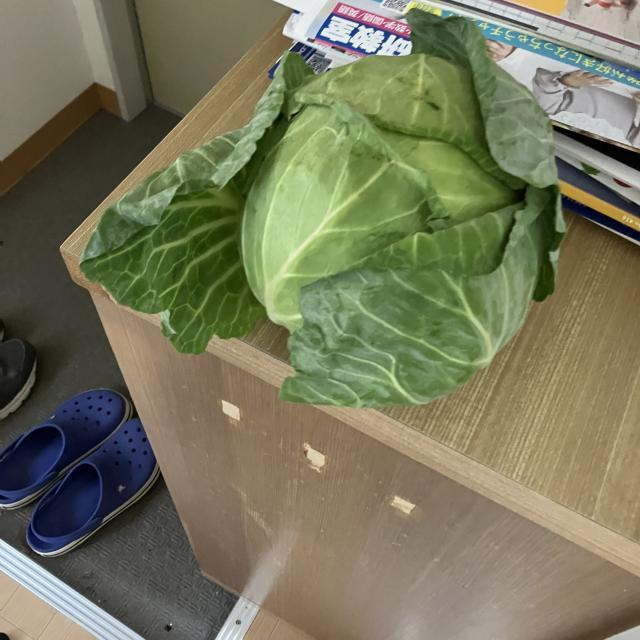cabbage: (74, 7, 574, 413)
